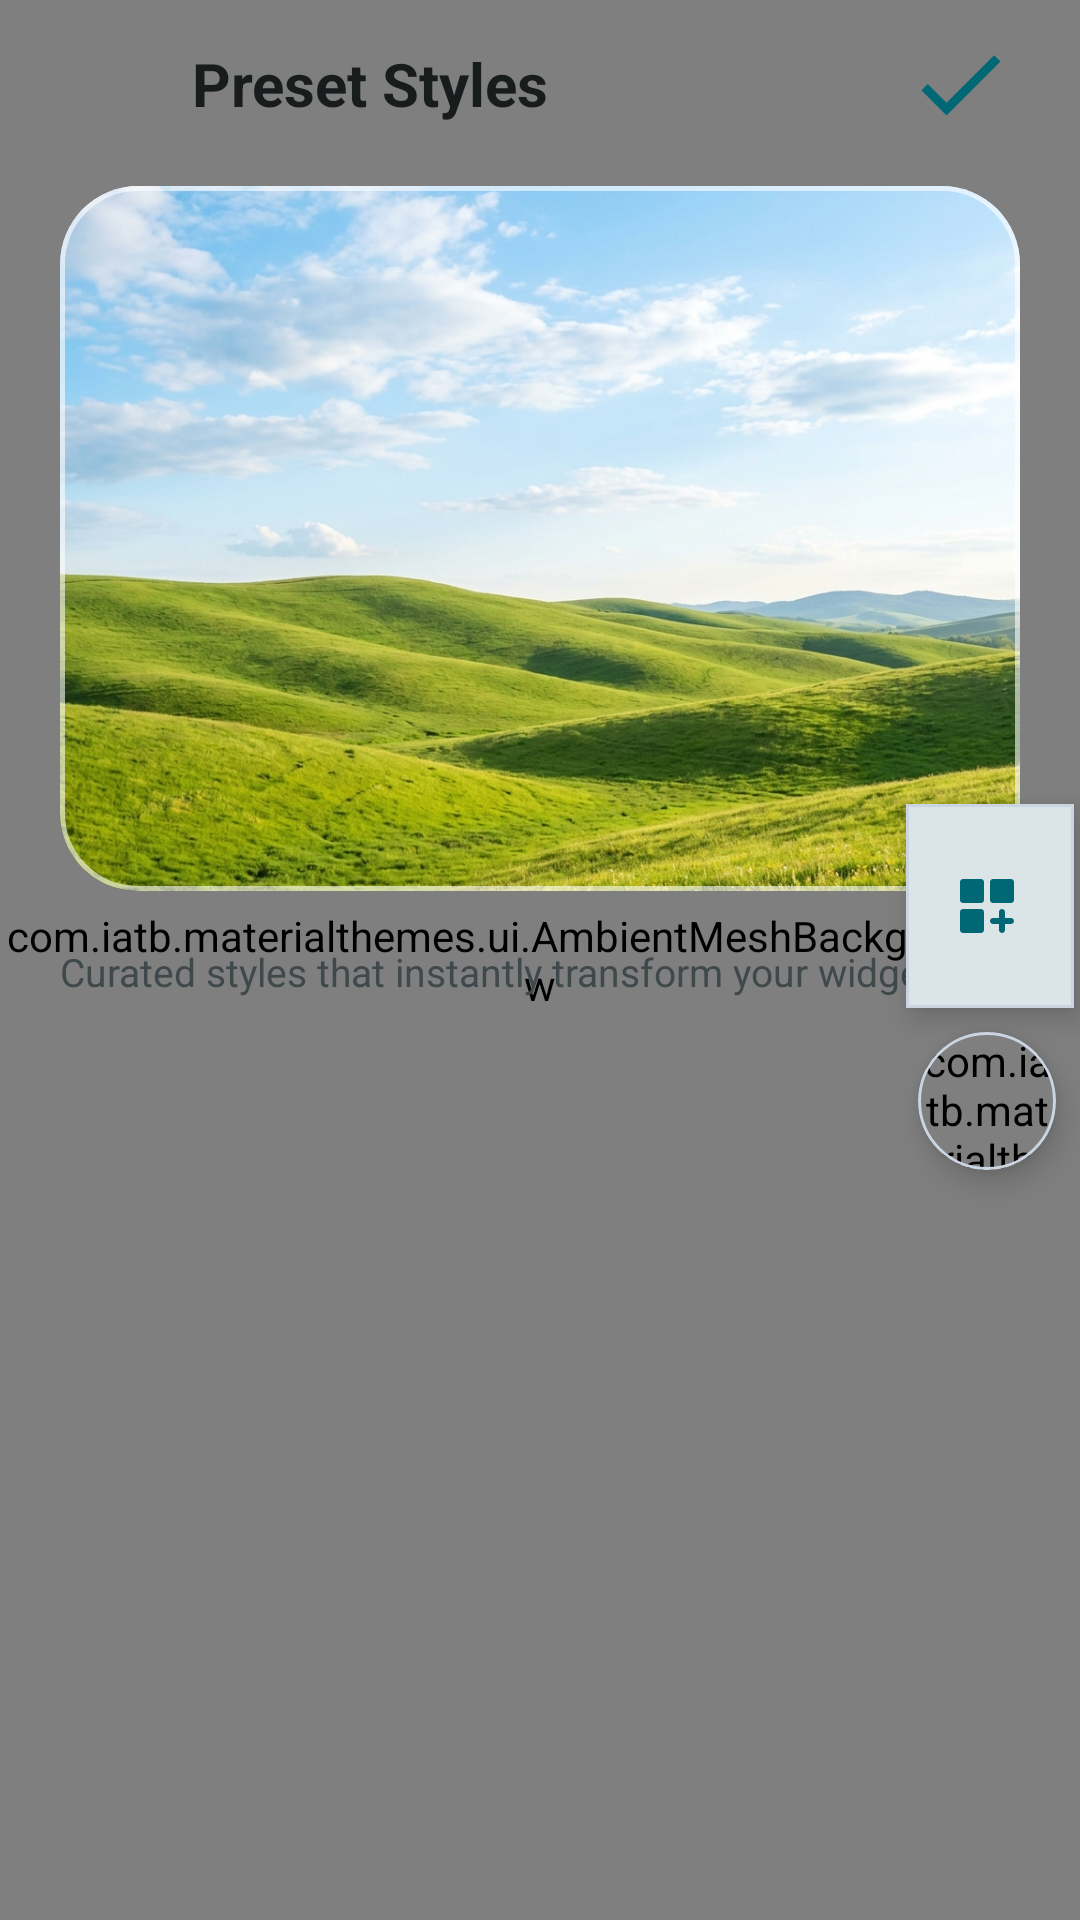

Icon click points for this 1080 x 1920 phone screenshot, format [x,y]:
Add Preset: [987,906]
Apply: [961,85]
